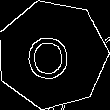O_N: (30, 28, 76, 81)
